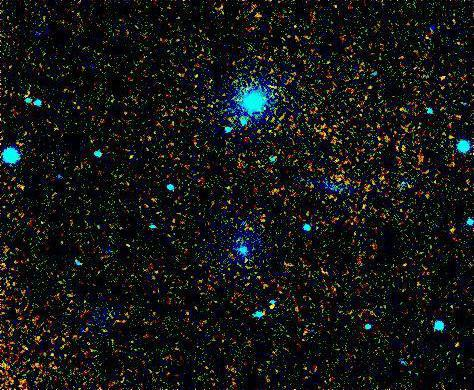star: (259, 289, 289, 319)
